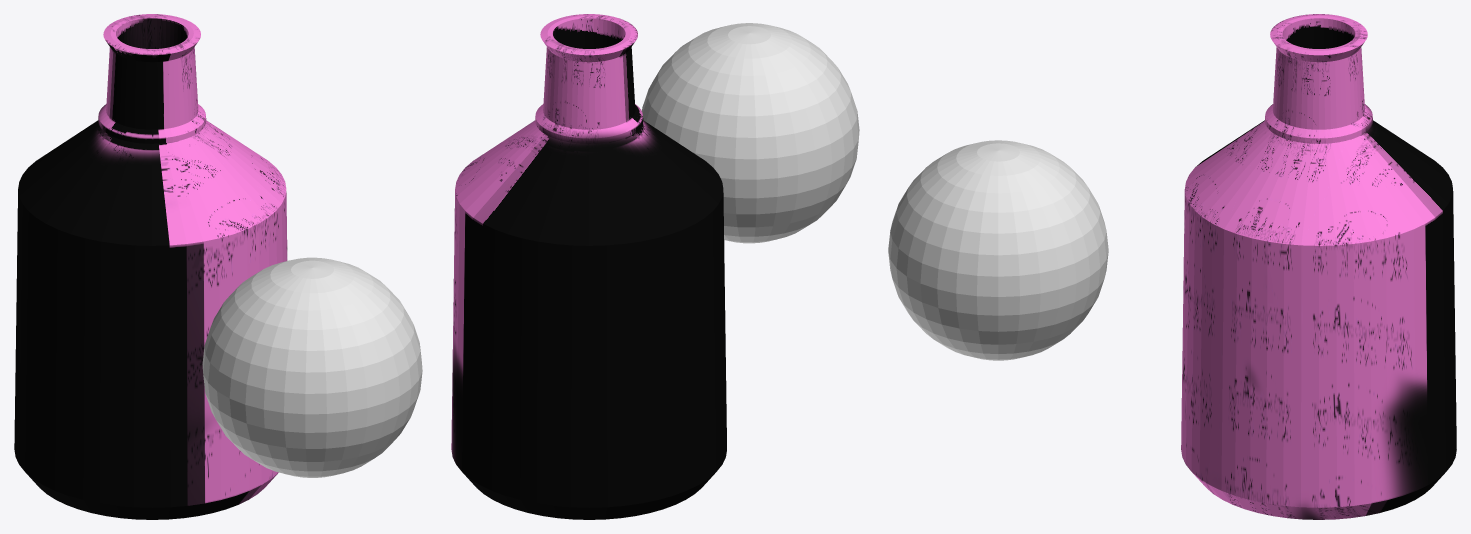
File: good bottle 9_05.gltf
3 views of the same model, side by side, from view 1: azimuth 30°, elevation 25°; view 2: azimuth 150°, elevation 25°; view 3: azimuth 270°, elevation 25° (orthographic).
Visible parts, largest first — view 1: bottle, Sphere; view 2: bottle, Sphere; view 3: bottle, Sphere.
Boxes of the visible parts, x1,y1,x2,y2 form: bottle: (14,14,287,519); Sphere: (202,257,422,477); bottle: (451,14,726,519); Sphere: (642,23,859,243); bottle: (1181,14,1456,519); Sphere: (888,140,1108,360).
Bounding box in the file's own units: 2.5 × 4.35 × 5.16.
1 material, 1 textured.
